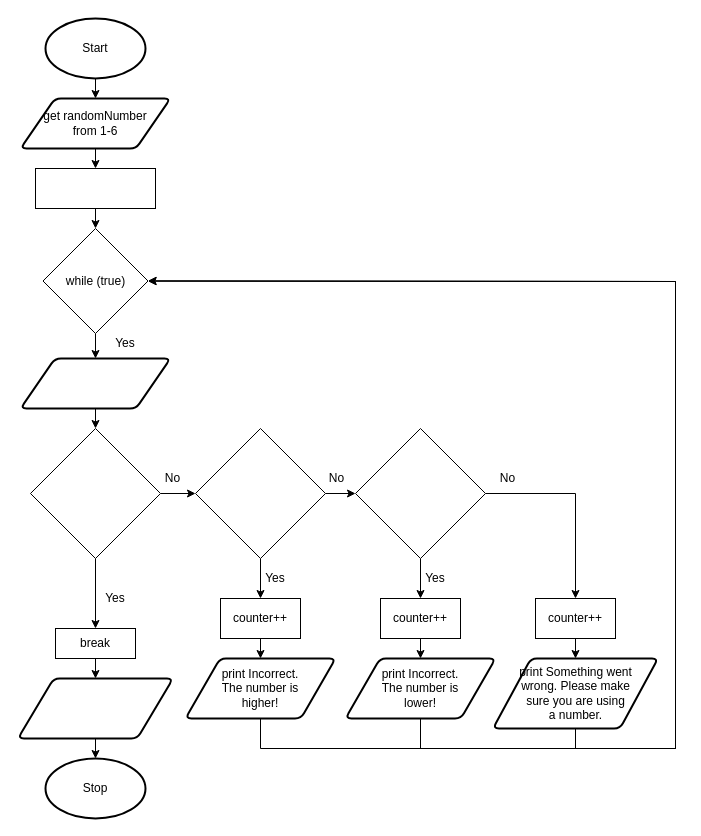
The diagram is 701 pixels wide and 836 high, and some of its shapes have lost their labels. Here are the shapes that lost their labels. From the top down, the centre of each, then its label:
the point at 95,188: counter = 1
the point at 95,383: get guessedNumber
the point at 95,493: if guessedNumber == randomNumber
the point at 260,493: if guessedNumber < randomNumber
the point at 420,493: if guessedNumber > randomNumber
the point at 95,708: print You Guessed Correctly! Tries: counter
